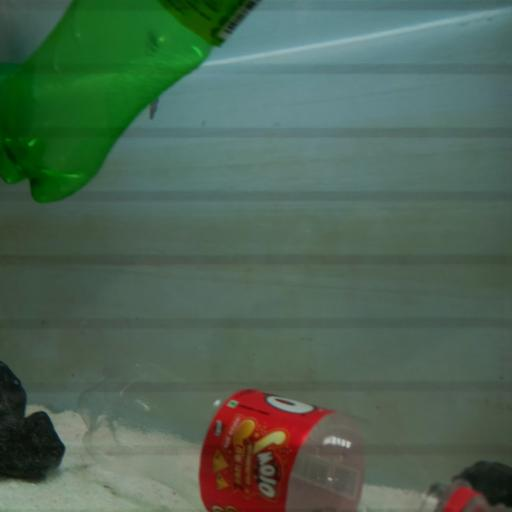plastic_bottle: (78, 351, 484, 512), (4, 0, 258, 202)
